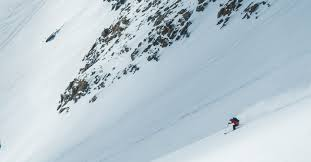skier: (218, 113, 249, 138)
